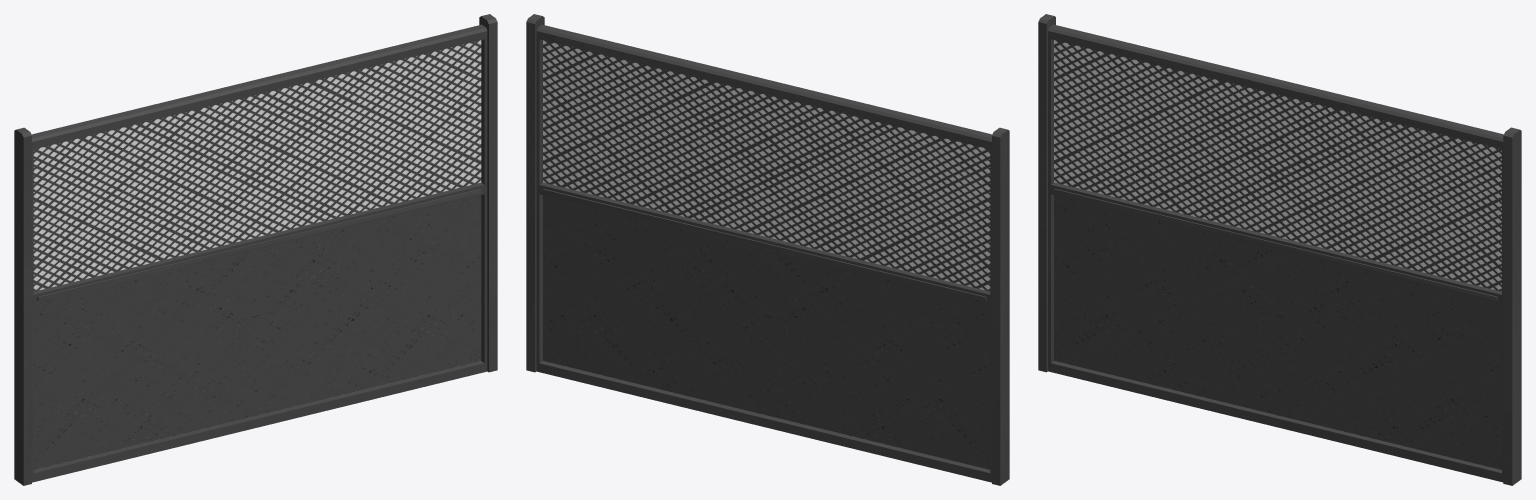
The model's file is MESH FENCE.fbx.
3 renders of one model, left to right at view 1: azimuth 30°, elevation 25°; view 2: azimuth 150°, elevation 25°; view 3: azimuth 330°, elevation 25°, orthographic.
Parts seen in each view (by area): view 1: Cube.001, Cube; view 2: Cube.001, Cube; view 3: Cube.001, Cube.
Part boxes in pixels (box(x1,y1,x2,y2)): Cube.001: box(33, 40, 481, 469); Cube: box(14, 14, 497, 485); Cube.001: box(543, 40, 990, 469); Cube: box(526, 14, 1009, 485); Cube.001: box(1054, 40, 1501, 469); Cube: box(1038, 14, 1521, 485).
Size of the model in its own units: 721 by 509 by 24.75.
